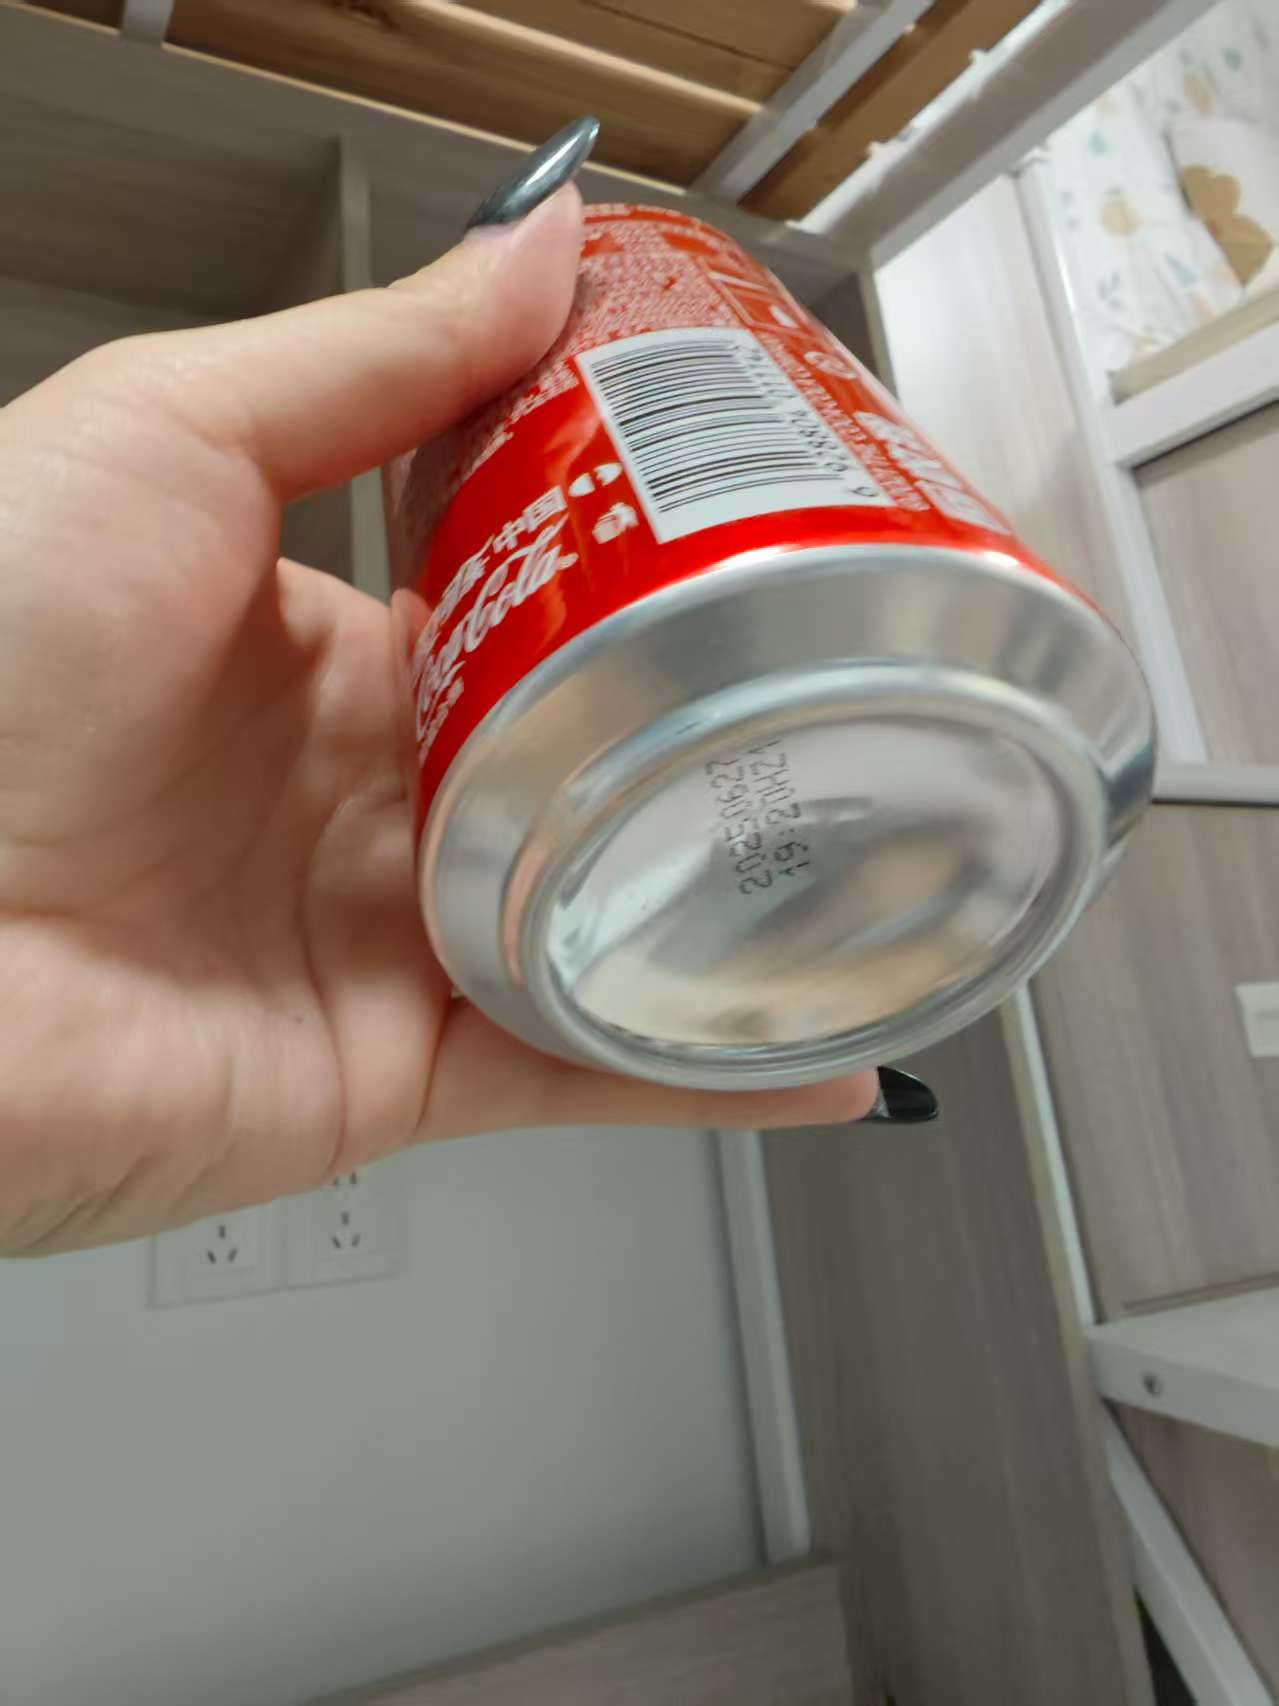可乐: (392, 189, 1153, 1081)
